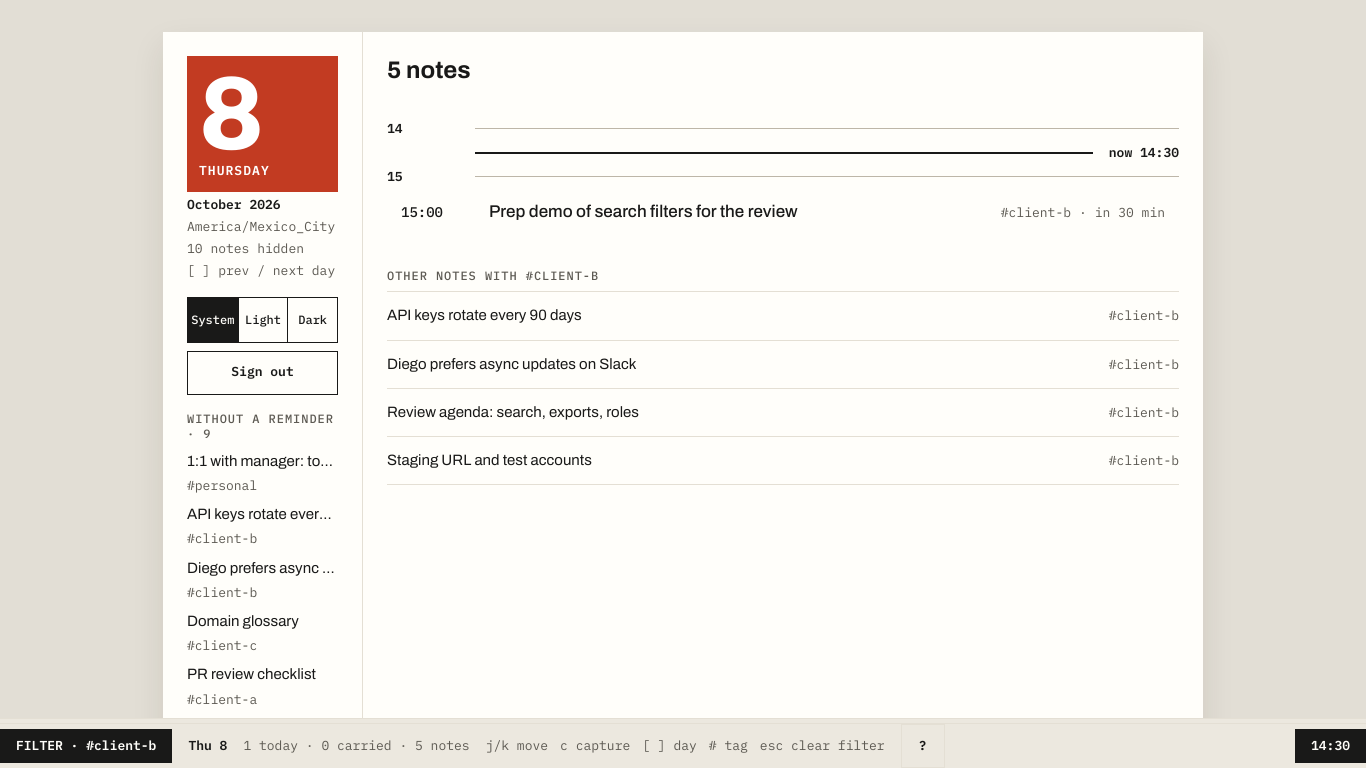
Test: capture on a filtered view (R11: no tag injected) › saves without the tag, says the filter hides it, and counts it hidden once
The image size is (1366, 768).
Expected: the heading "5 notes" is shown, [387,57,471,83]
Type keys "c"
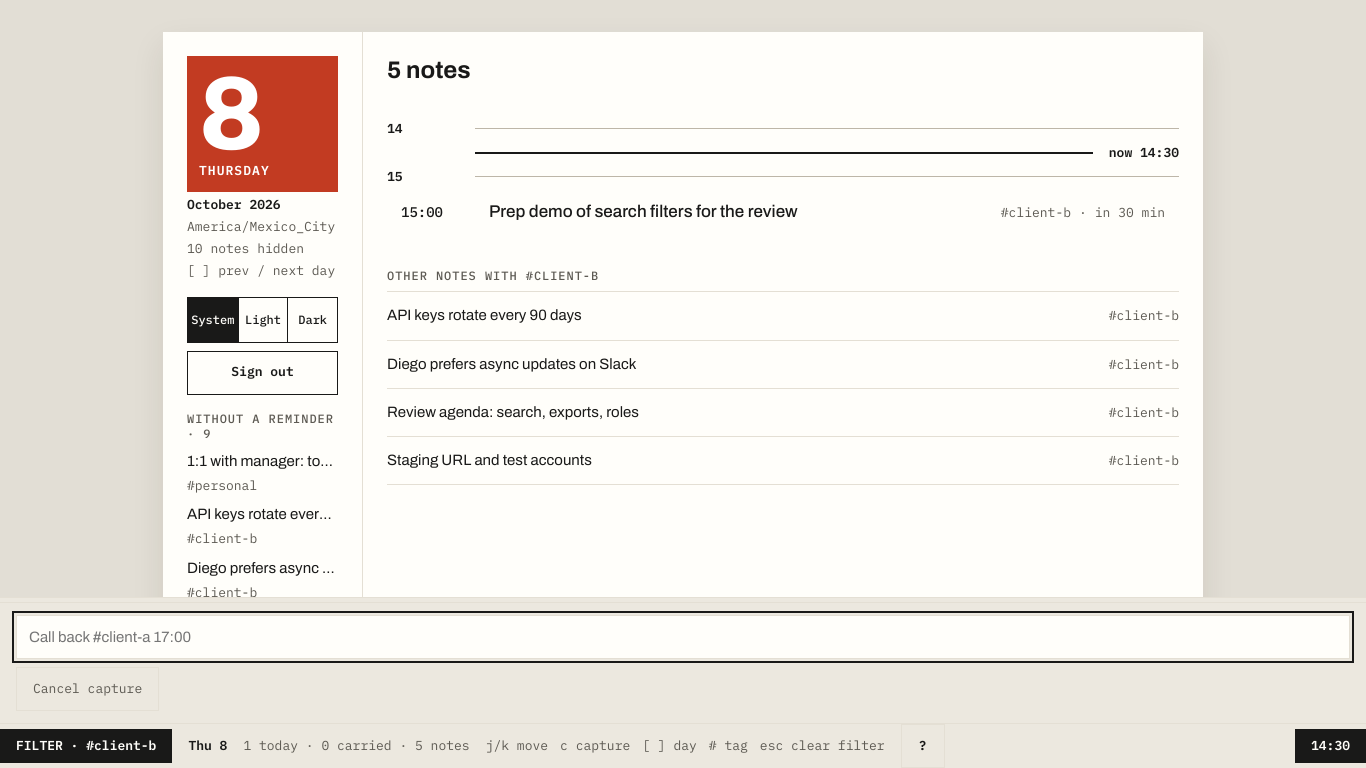
Type "Buy milk" into the field at (683, 637), box [16,615,1350,659]
Then press Enter
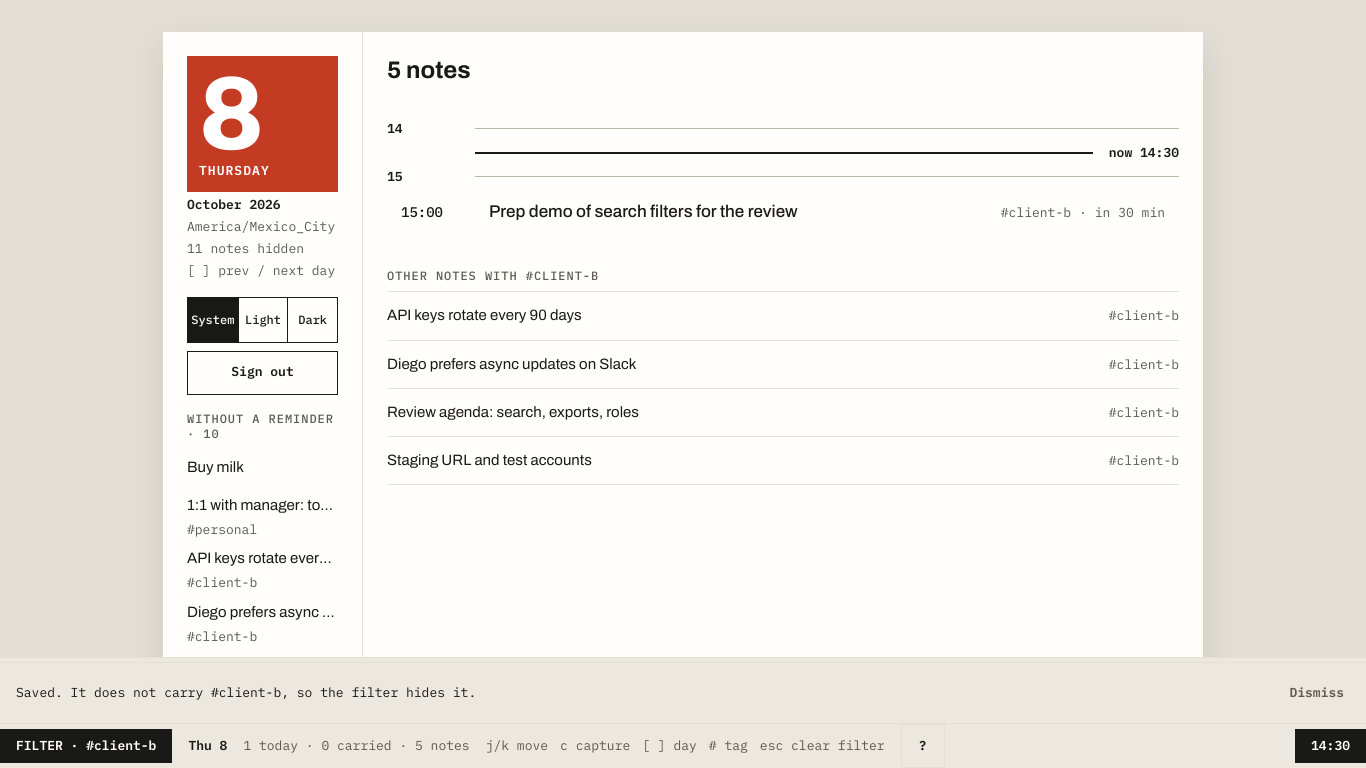
Expected: the heading "5 notes" is shown, [387,57,471,83]
Result: the text "11 notes hidden" is shown at [187,240,304,257]
Result: the text "Buy milk" is shown at [187,459,244,475]
